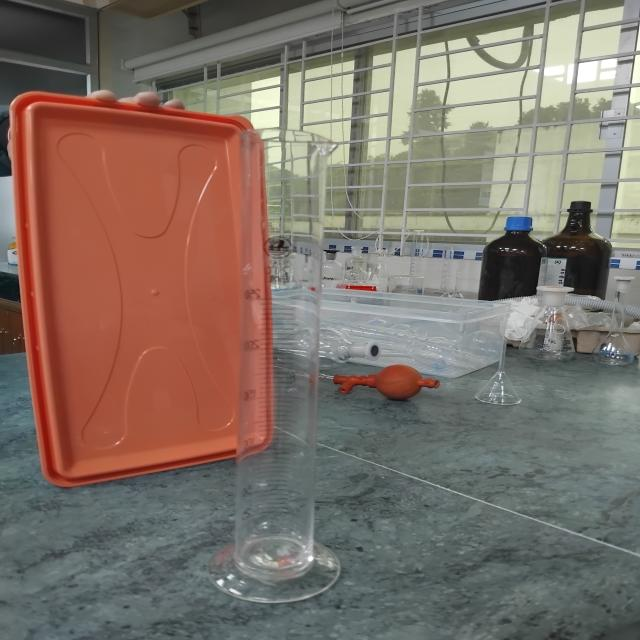Measuring_Cylinder: (184, 103, 362, 631)
